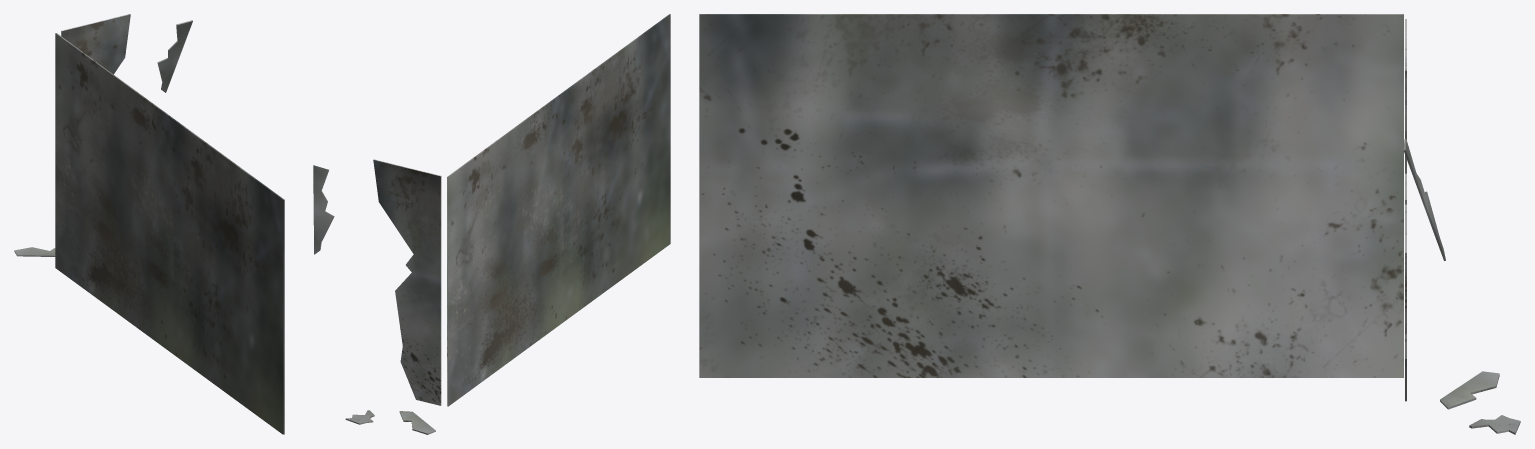
File: busStop_glass.fbx
The picture shows the model from 3 angles, left to right: view 1: azimuth 30°, elevation 25°; view 2: azimuth 150°, elevation 25°; view 3: azimuth 270°, elevation 25°; orthographic projection. The views are drawn at different scales.
Parts seen in each view (by area): view 1: glass; view 2: glass; view 3: glass.
Boxes of the visible parts, bbox=[...] form: glass: bbox=[14, 14, 284, 434]; glass: bbox=[313, 14, 670, 434]; glass: bbox=[699, 14, 1520, 434].
Size of the model in its own units: 42.75 by 64.8 by 131.
